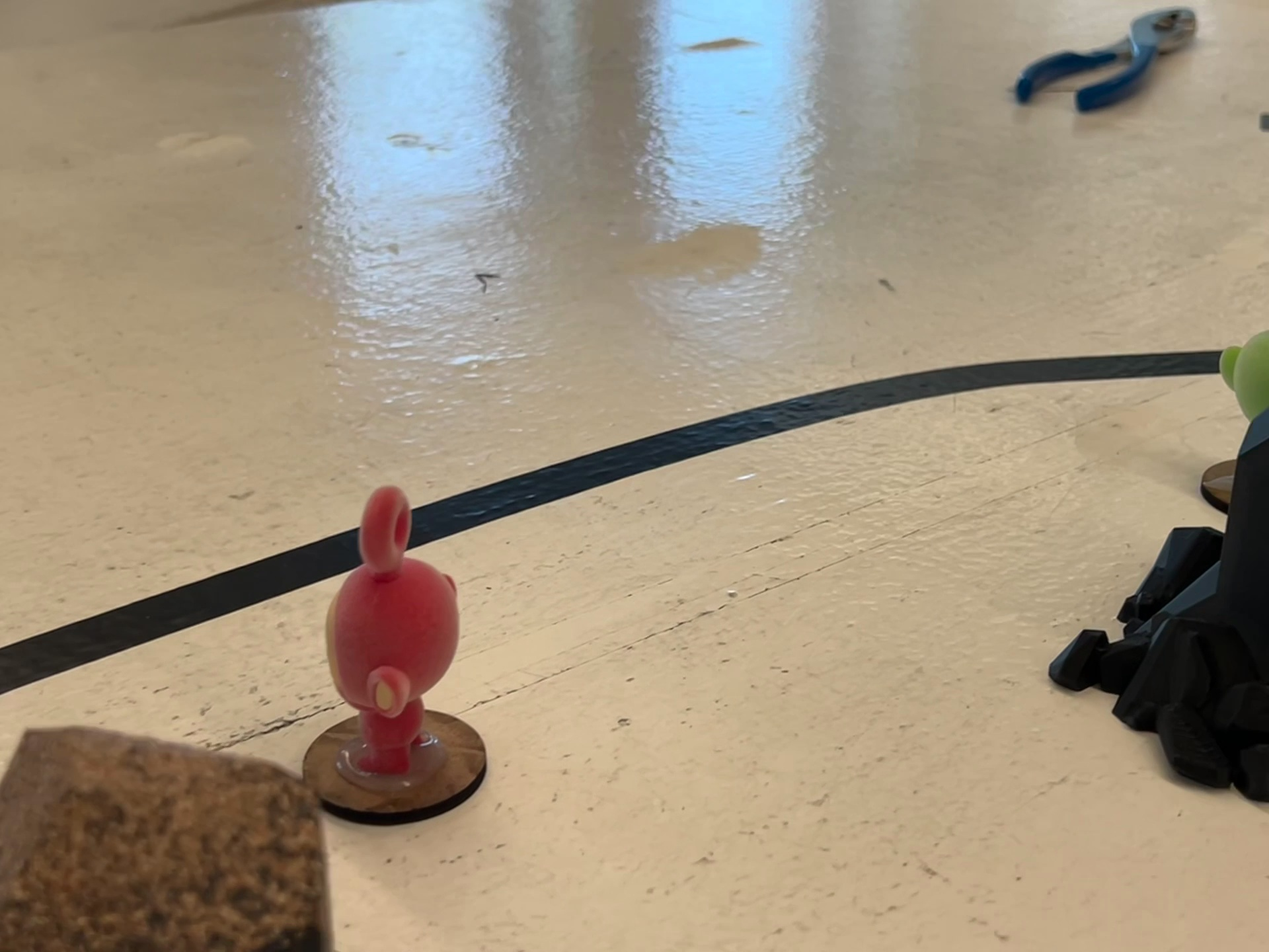teletubby: (327, 487, 459, 774), (1219, 331, 1268, 420)
